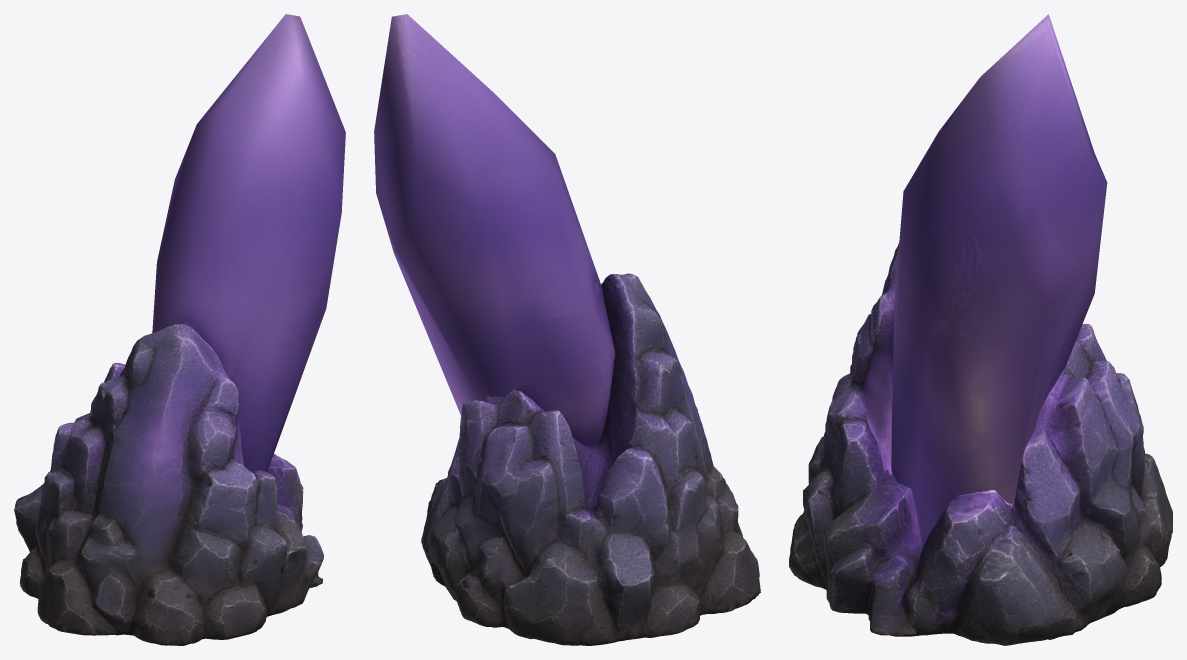
File: crystalMonolith.glb
3 renders of one model, left to right at view 1: azimuth 30°, elevation 25°; view 2: azimuth 150°, elevation 25°; view 3: azimuth 270°, elevation 25°, orthographic. The views are drawn at different scales.
Parts seen in each view (by area): view 1: tripo_node_4daea437-367b-4a00-bee3-cd393fee88b8; view 2: tripo_node_4daea437-367b-4a00-bee3-cd393fee88b8; view 3: tripo_node_4daea437-367b-4a00-bee3-cd393fee88b8.
Part boxes in pixels (x1=…): tripo_node_4daea437-367b-4a00-bee3-cd393fee88b8: x1=14, y1=14, x2=345, y2=645; tripo_node_4daea437-367b-4a00-bee3-cd393fee88b8: x1=374, y1=14, x2=760, y2=645; tripo_node_4daea437-367b-4a00-bee3-cd393fee88b8: x1=789, y1=14, x2=1172, y2=645.
Bounding box in the file's own units: 0.6504 × 0.998 × 0.5371.
1 material, 1 textured.
